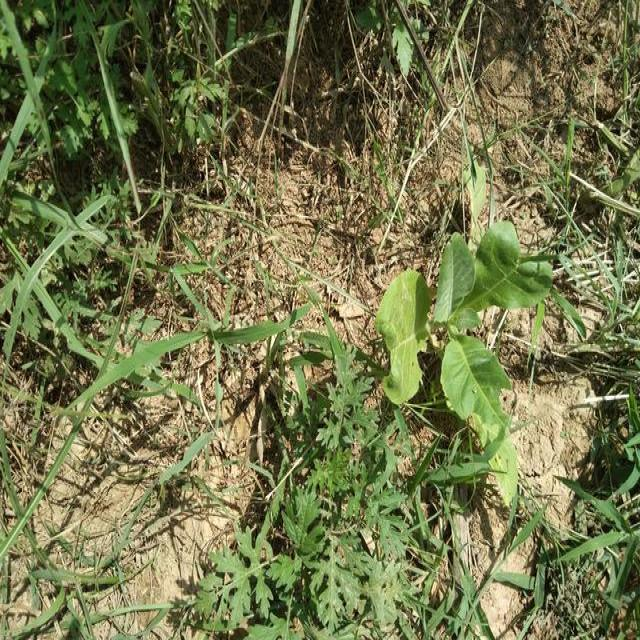crop: (369, 191, 544, 500)
